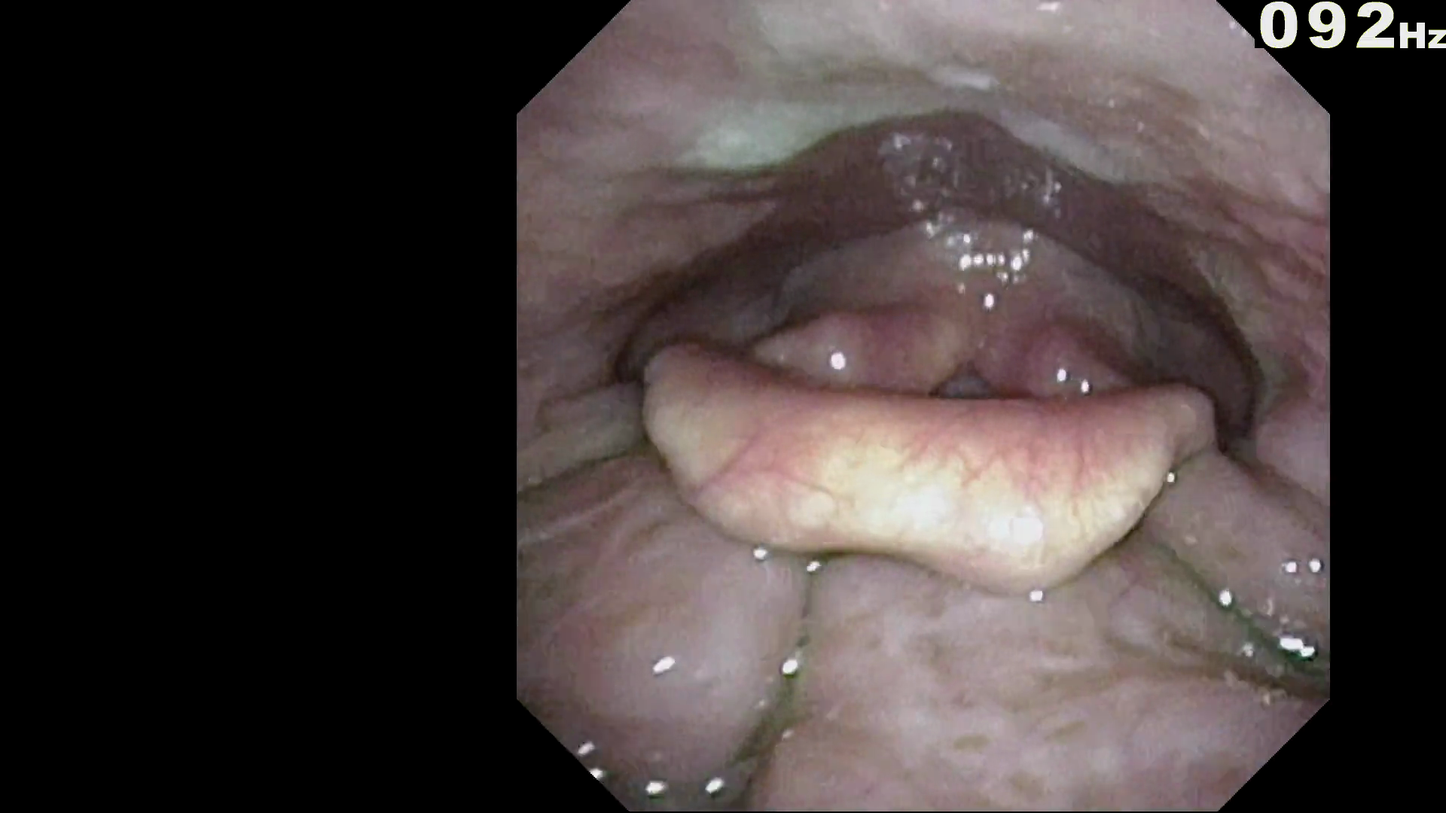epiglottis: (612, 383, 1225, 574)
trachea: (918, 369, 1027, 443)
